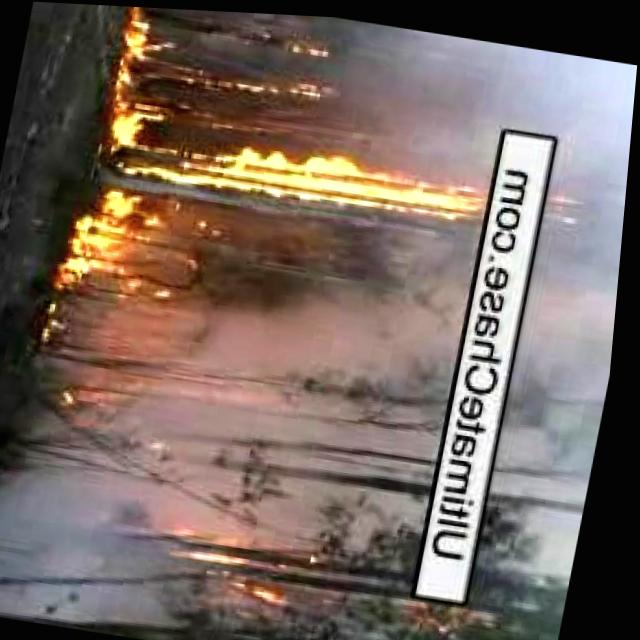helmet: (132, 133, 501, 223), (64, 180, 196, 318), (162, 511, 323, 616), (102, 5, 164, 138), (187, 55, 333, 106), (403, 581, 510, 640), (261, 30, 326, 59)
no_helmet: (0, 178, 487, 640)
